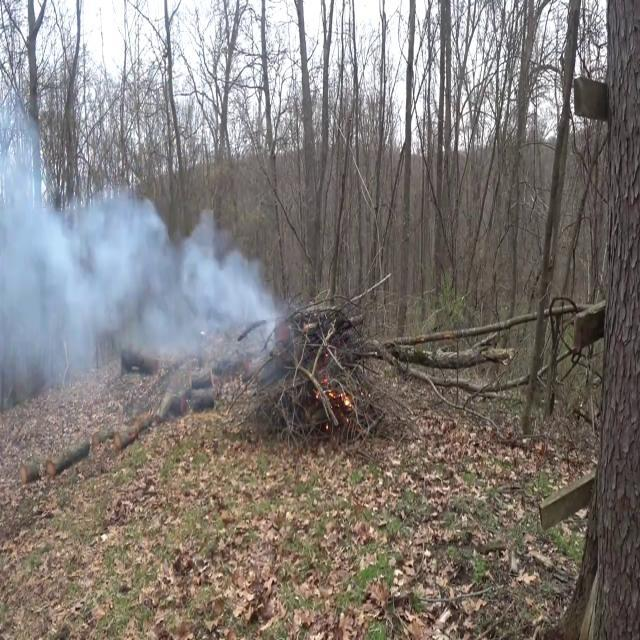Smoke: (0, 110, 280, 424)
